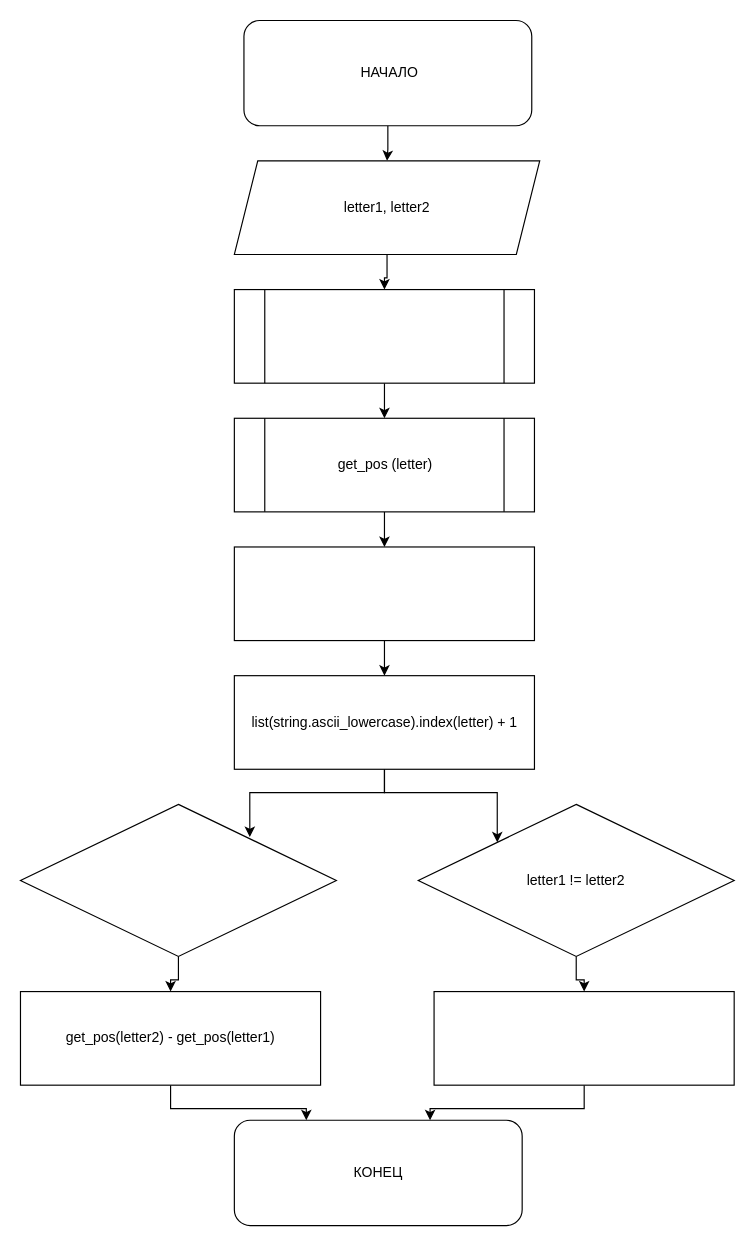
The diagram is 755 pixels wide and 1246 high, and some of its shapes have lost their labels. Each missing label, with the centre of its shape:
get_pos(letter2) - get_pos(letter1) - 1: the point at 583,1037
import string: the point at 383,335
letter.lower(): the point at 383,593
letter1 == letter2: the point at 177,879
